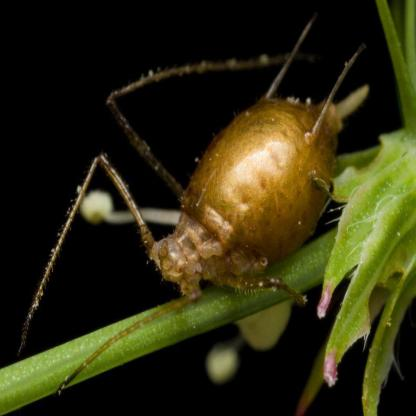aphid: (50, 40, 358, 338)
